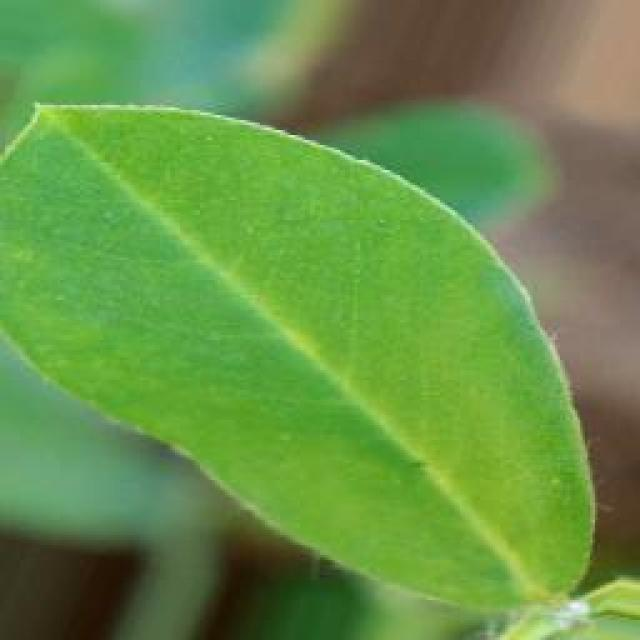Yellow_and_black_sigatoka: (0, 104, 640, 605)
